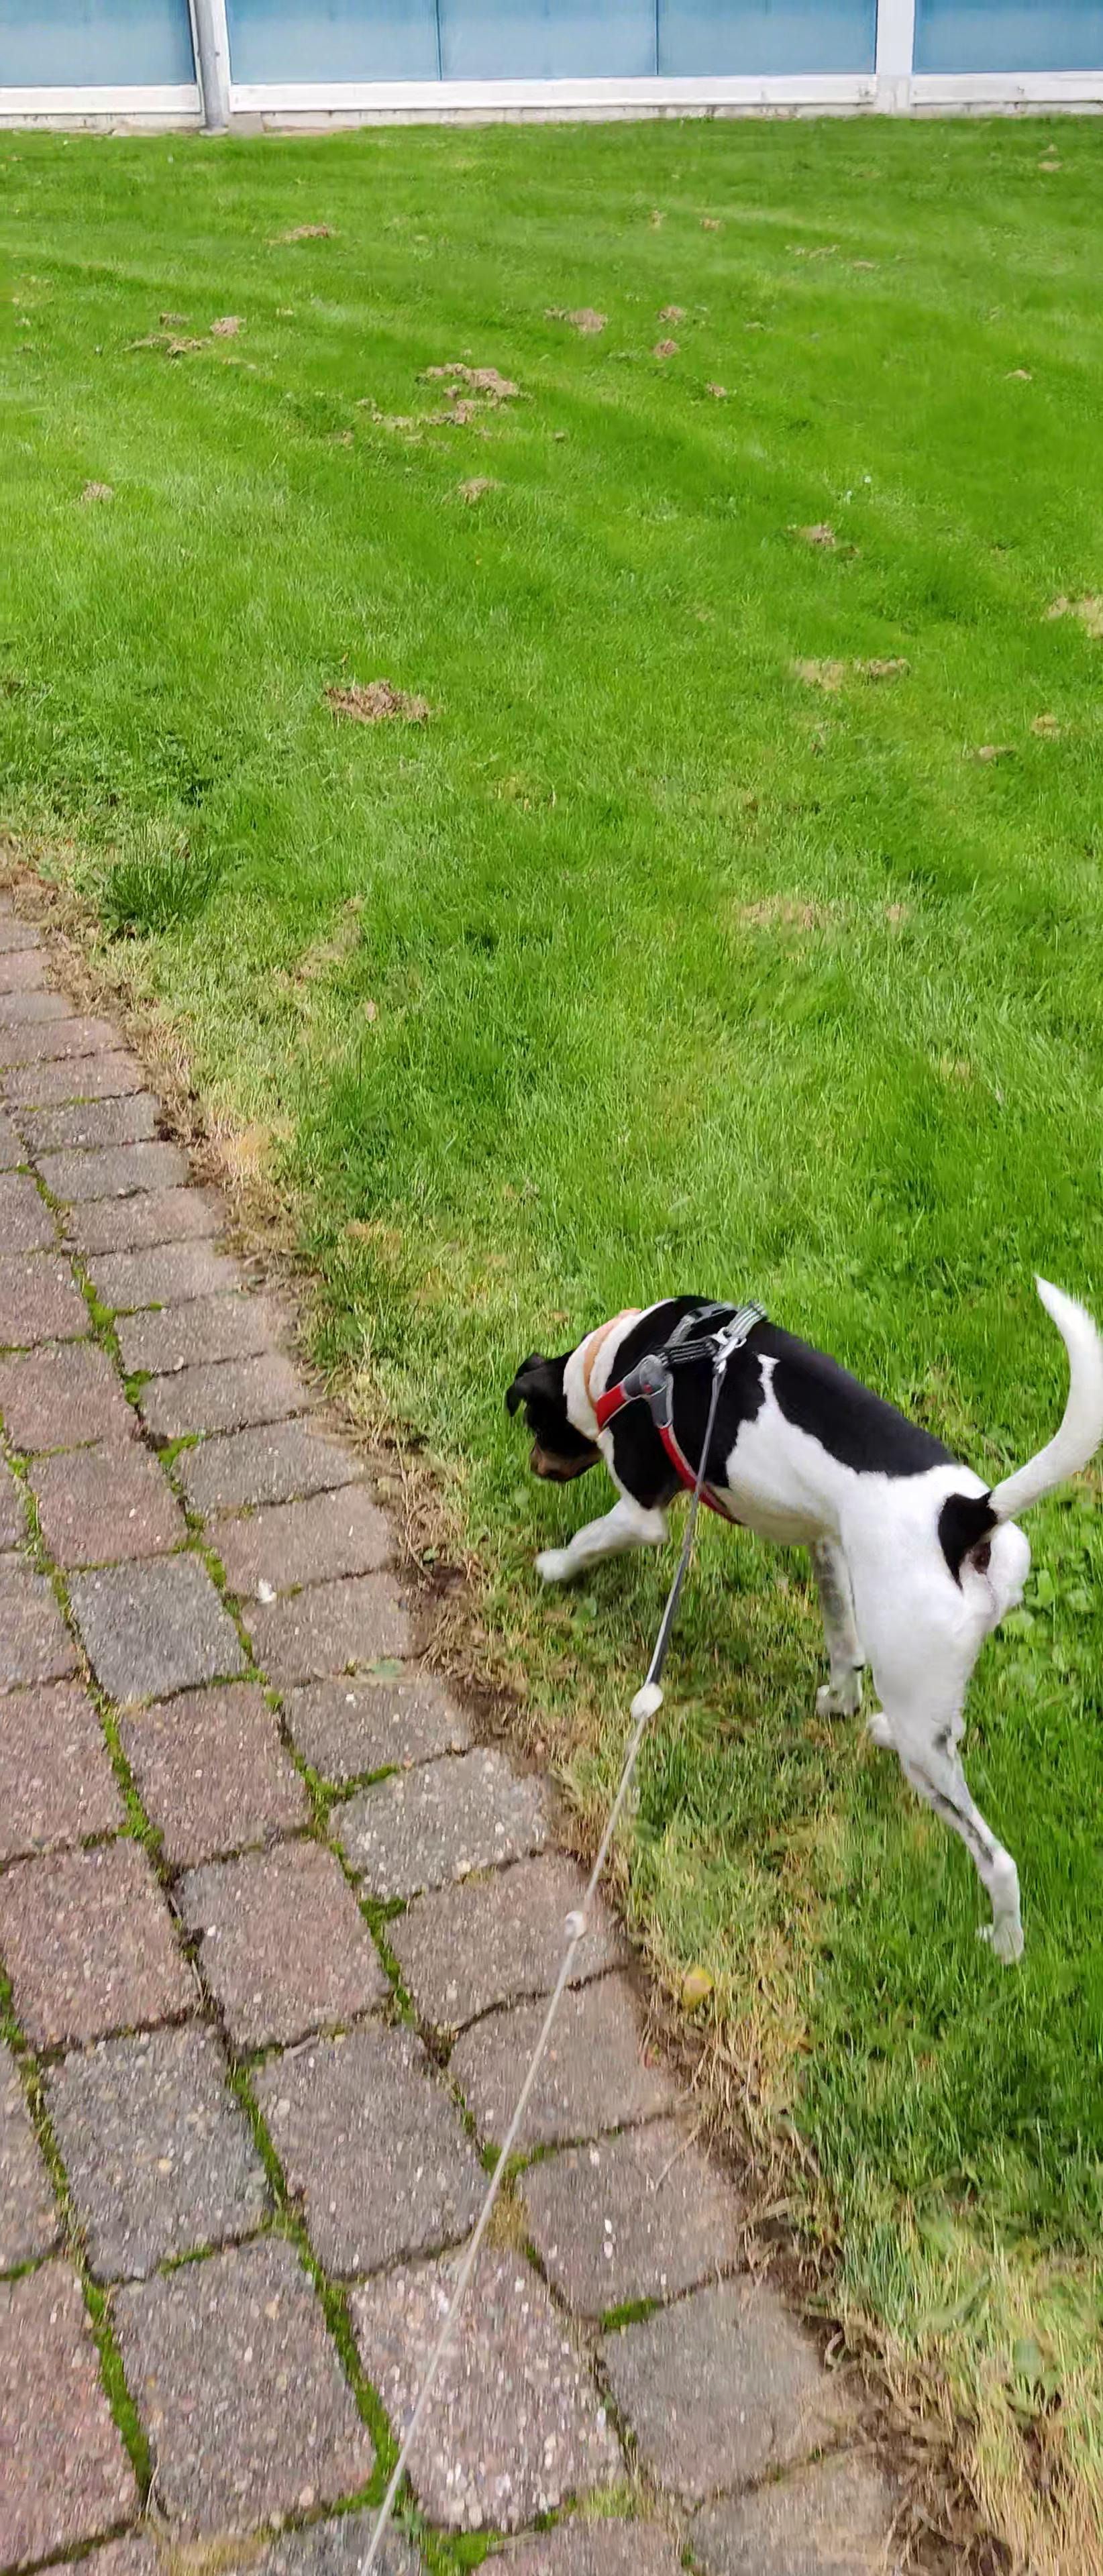Dog: (500, 1258, 1103, 1973)
